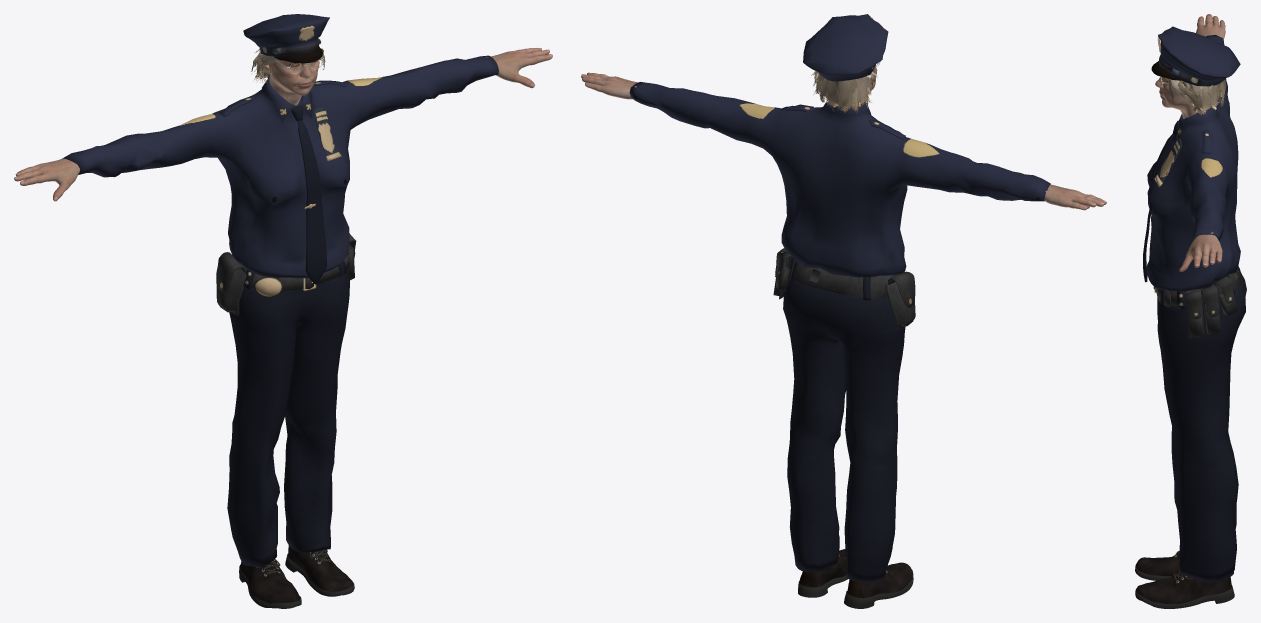
The model's file is SarahCop-OBJ.obj.
3 renders of one model, left to right at view 1: azimuth 30°, elevation 25°; view 2: azimuth 150°, elevation 25°; view 3: azimuth 270°, elevation 25°, orthographic. The views are drawn at different scales.
Parts seen in each view (by area): view 1: Tops, Bottoms, Body, Shoes, Hats; view 2: Bottoms, Tops, Hats, Shoes, Body, Hair; view 3: Bottoms, Tops, Hats, Shoes, Body, Hair.
Part boxes in pixels (box(x1,y1,x2,y2)): Tops: box(62, 55, 498, 284); Bottoms: box(216, 234, 356, 566); Body: box(14, 48, 552, 201); Shoes: box(239, 545, 354, 608); Hats: box(243, 14, 329, 63); Bottoms: box(773, 248, 915, 583); Tops: box(629, 82, 1050, 277); Hats: box(803, 14, 888, 81); Shoes: box(798, 549, 913, 608); Body: box(581, 65, 1106, 275); Hair: box(811, 66, 877, 113); Bottoms: box(1153, 266, 1246, 582); Tops: box(1143, 35, 1240, 291); Hats: box(1151, 26, 1240, 86); Shoes: box(1135, 551, 1234, 608); Body: box(1155, 14, 1225, 291); Hair: box(1167, 78, 1226, 114).
Bounding box in the file's own units: 172 × 177 × 32.49.
7 materials, 7 textured.
